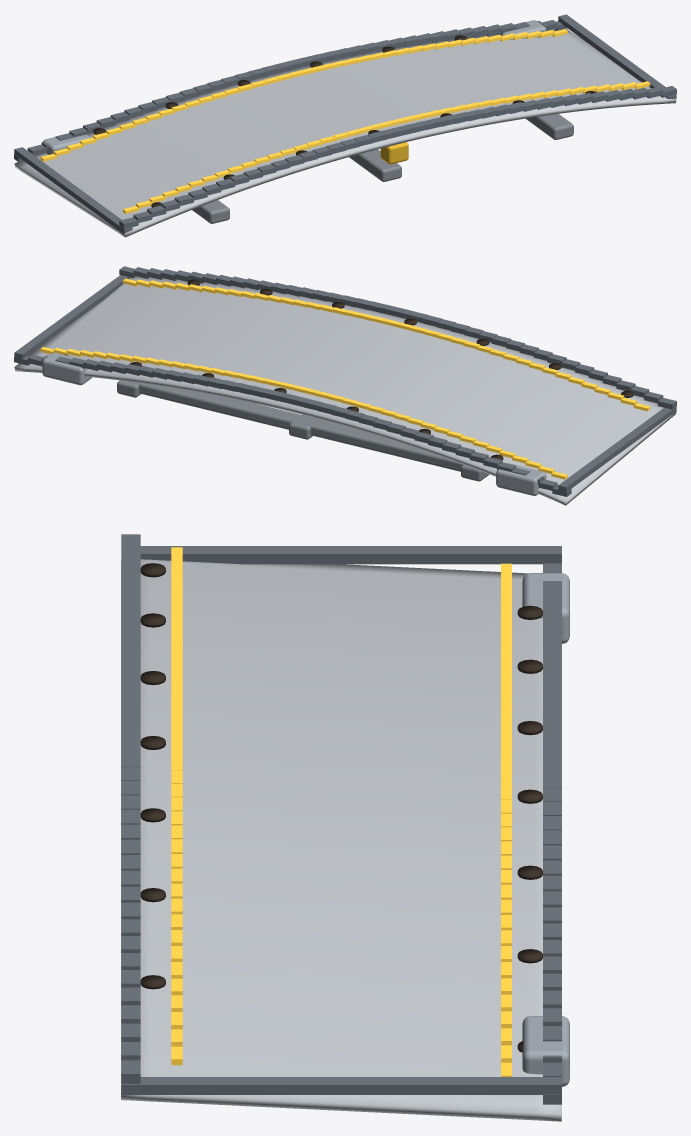
The model's file is hood.glb.
The picture shows the model from 3 angles, top to bottom: view 1: azimuth 30°, elevation 25°; view 2: azimuth 150°, elevation 25°; view 3: azimuth 270°, elevation 25°; orthographic projection. The views are drawn at different scales.
Parts seen in each view (by area): view 1: Hood_Outer, Hem_Side_-1, Hem_Side_1, Hood_InnerRib_0.0, Hood_InnerRib_0.5, Hood_InnerRib_-0.5, Hood_Striker, Hood_Hinge_-1; view 2: Hood_Outer, Hood_Rail, Hem_Side_-1, Hem_Side_1, Hood_Hinge_-1, Hood_Hinge_1; view 3: Hood_Outer, Hem_Side_1, Hem_Side_-1, Hood_Hinge_1, Hood_Hinge_-1.
Boxes of the visible parts, x1,y1,x2,y2 form: Hood_Outer: [14, 29, 676, 237]; Hem_Side_-1: [14, 147, 132, 234]; Hem_Side_1: [558, 14, 676, 98]; Hood_InnerRib_0.0: [349, 149, 401, 181]; Hood_InnerRib_0.5: [526, 114, 573, 139]; Hood_InnerRib_-0.5: [192, 200, 229, 223]; Hood_Striker: [380, 142, 408, 164]; Hood_Hinge_-1: [43, 134, 90, 154]; Hood_Outer: [14, 276, 676, 505]; Hood_Rail: [132, 382, 462, 471]; Hem_Side_-1: [558, 406, 676, 491]; Hem_Side_1: [14, 275, 130, 359]; Hood_Hinge_-1: [496, 463, 546, 495]; Hood_Hinge_1: [42, 352, 91, 385]; Hood_Outer: [121, 559, 561, 1121]; Hem_Side_1: [121, 1077, 561, 1094]; Hem_Side_-1: [140, 546, 561, 564]; Hood_Hinge_1: [522, 1016, 569, 1086]; Hood_Hinge_-1: [522, 573, 569, 643].
Size of the model in its own units: 1.61 by 0.1548 by 0.5656.
